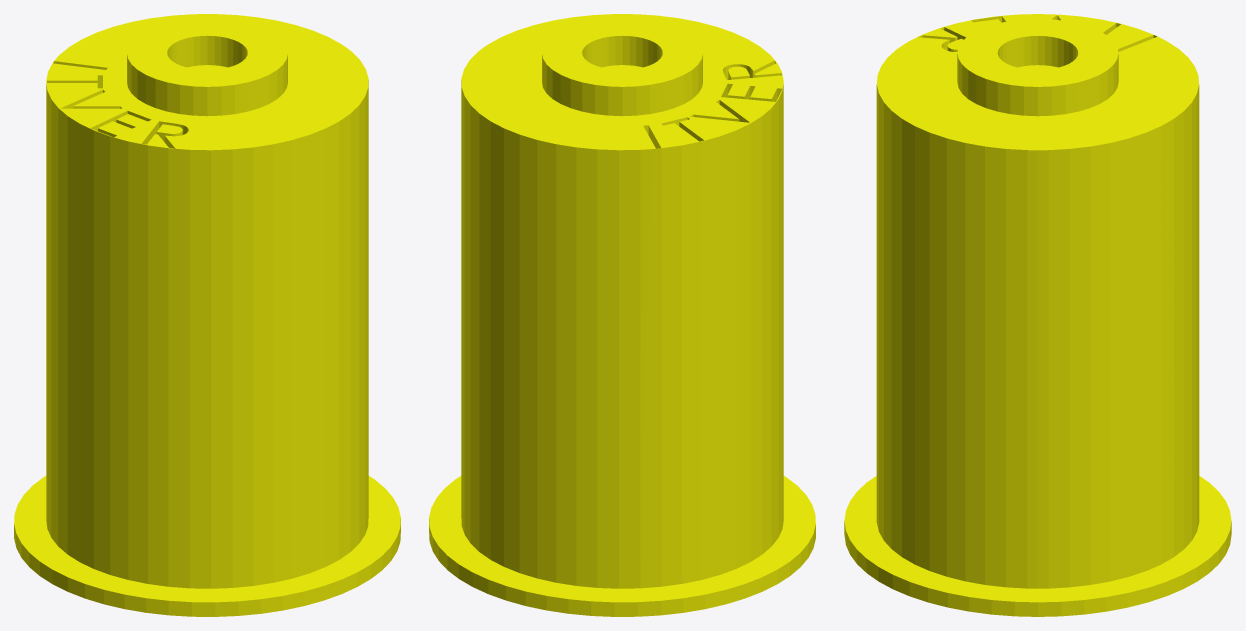
The model's file is Wrist6.dae.
3 views of the same model, side by side, from view 1: azimuth 30°, elevation 25°; view 2: azimuth 150°, elevation 25°; view 3: azimuth 270°, elevation 25° (orthographic).
Parts seen in each view (by area): view 1: M6; view 2: M6; view 3: M6.
Part boxes in pixels (<box>): M6: <box>14,14,400,616</box>; M6: <box>429,14,815,616</box>; M6: <box>844,14,1231,616</box>.
Size of the model in its own units: 0.024 by 0.024 by 0.033.
